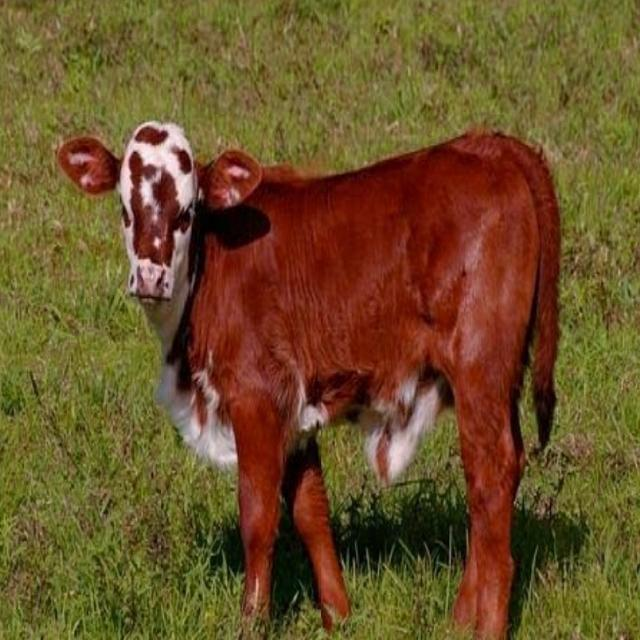cow: (58, 122, 560, 640)
